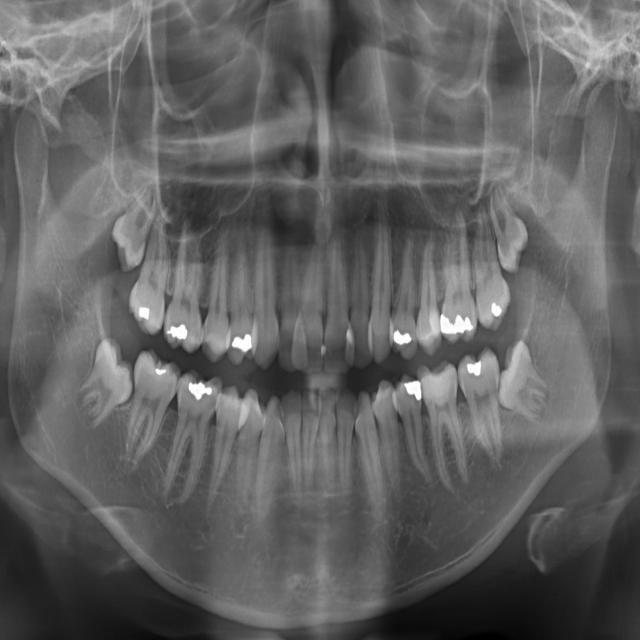AmalgamRestoration: (441, 311, 475, 336), (188, 376, 214, 402), (231, 331, 254, 356), (164, 325, 188, 344), (403, 378, 423, 400), (394, 331, 414, 348), (464, 361, 483, 376), (489, 298, 502, 318), (138, 308, 153, 325), (156, 362, 167, 385)
CompositeResinRestoration: (424, 363, 452, 408), (429, 308, 440, 342), (345, 322, 353, 352), (317, 338, 329, 356)
DentalCaries: (208, 389, 219, 416), (203, 322, 214, 348)
